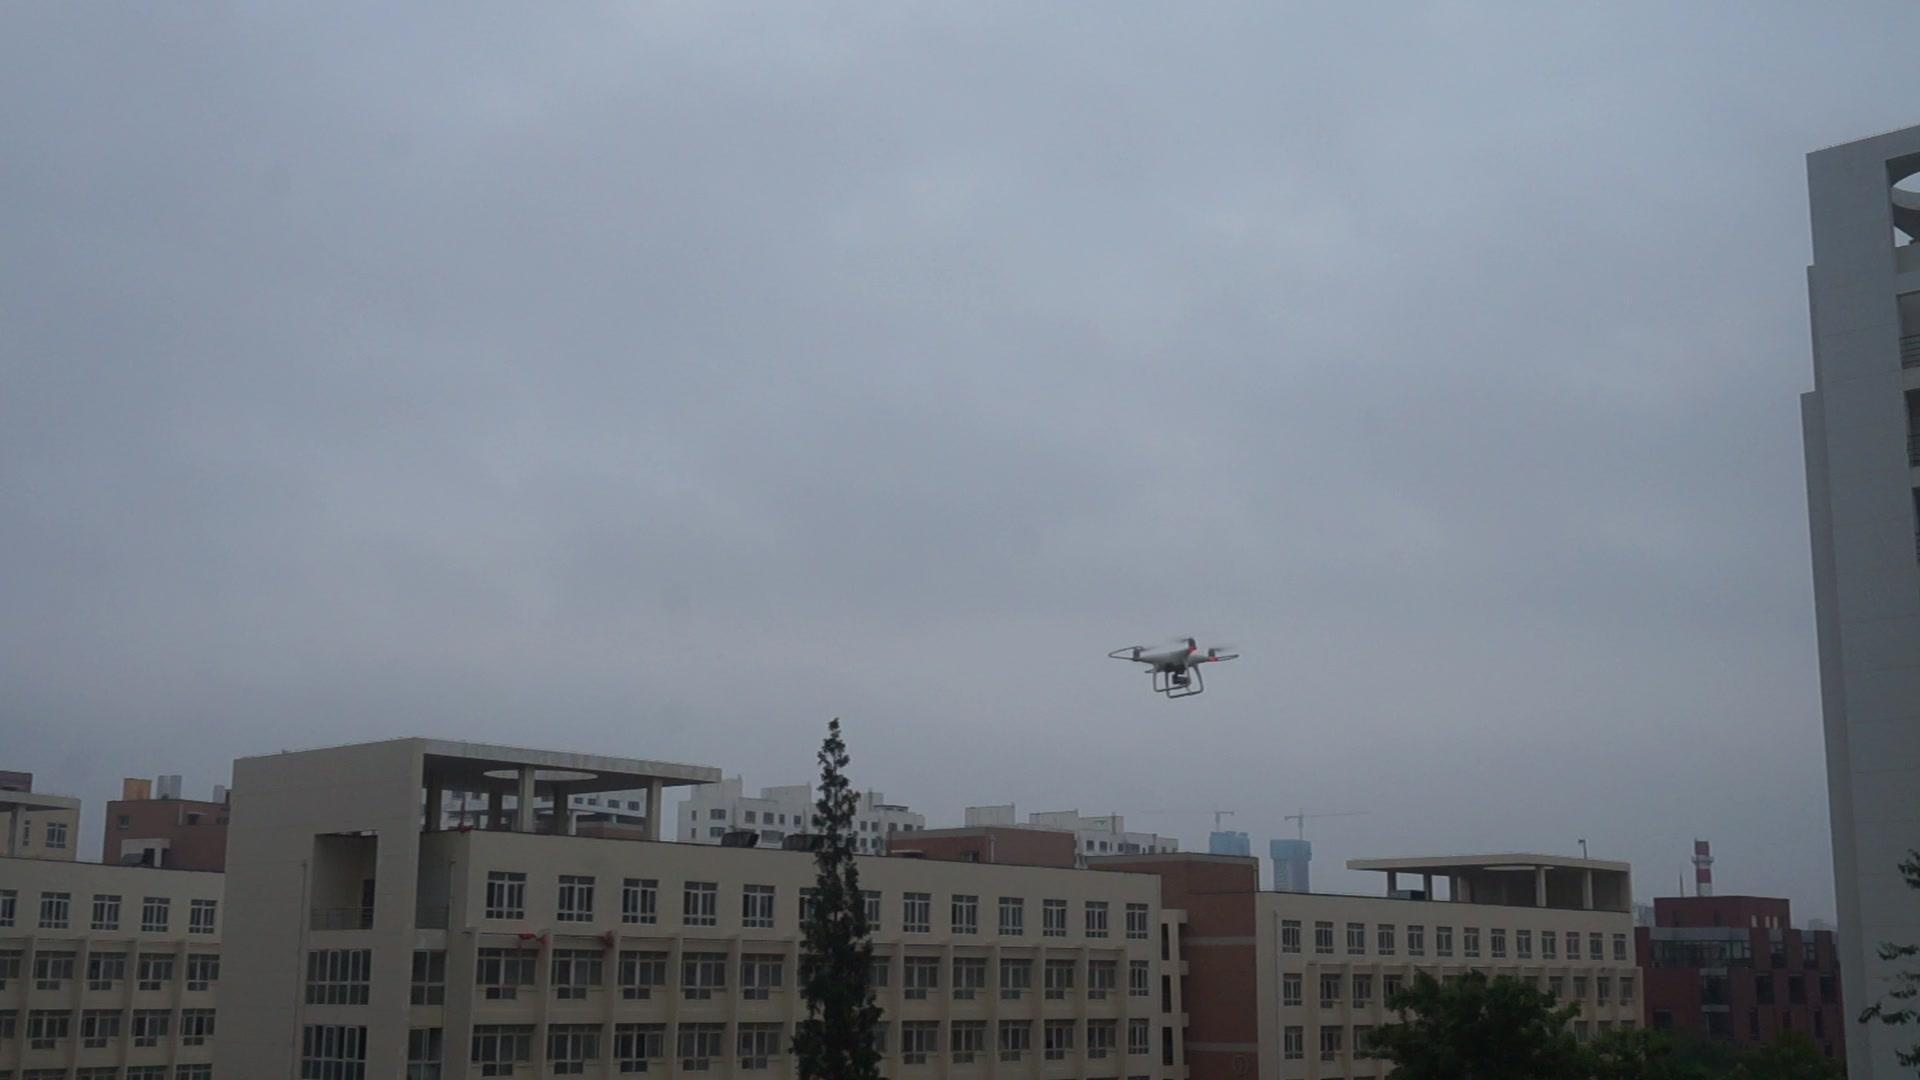UAV: (1109, 638, 1240, 700)
